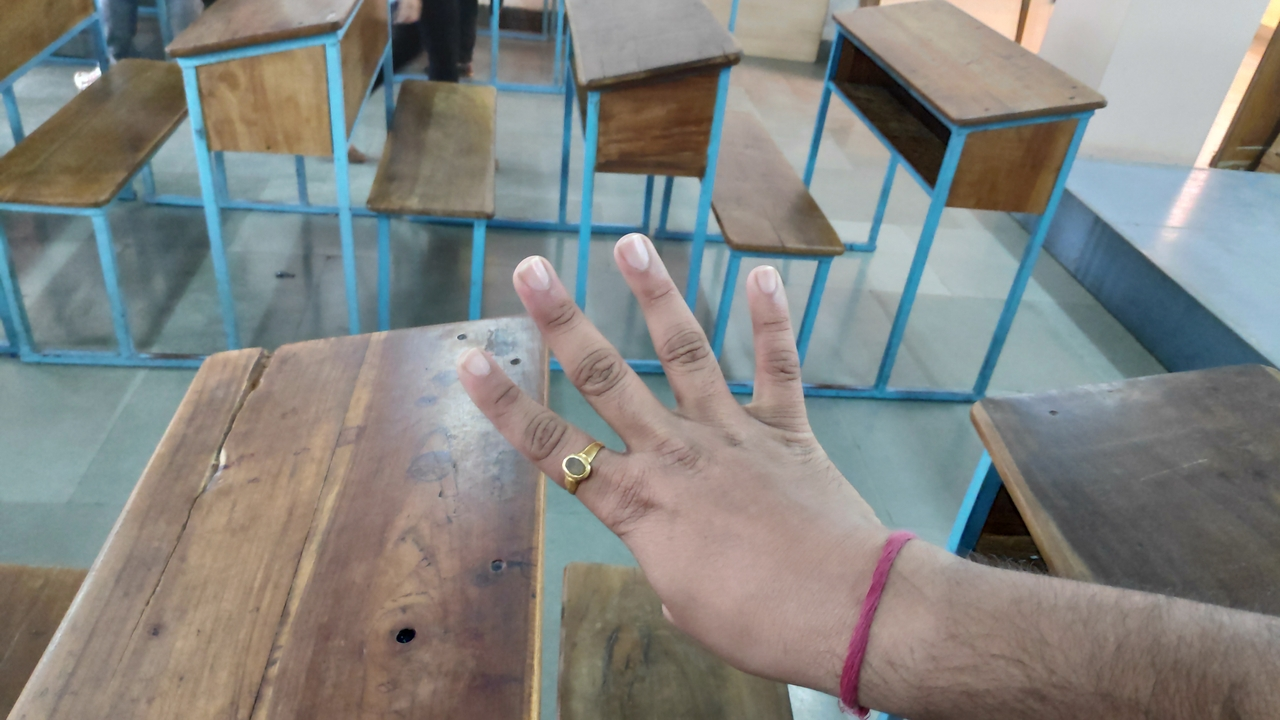fingertip: (602, 224, 672, 286), (500, 248, 570, 310), (440, 338, 510, 400), (740, 256, 796, 314)
